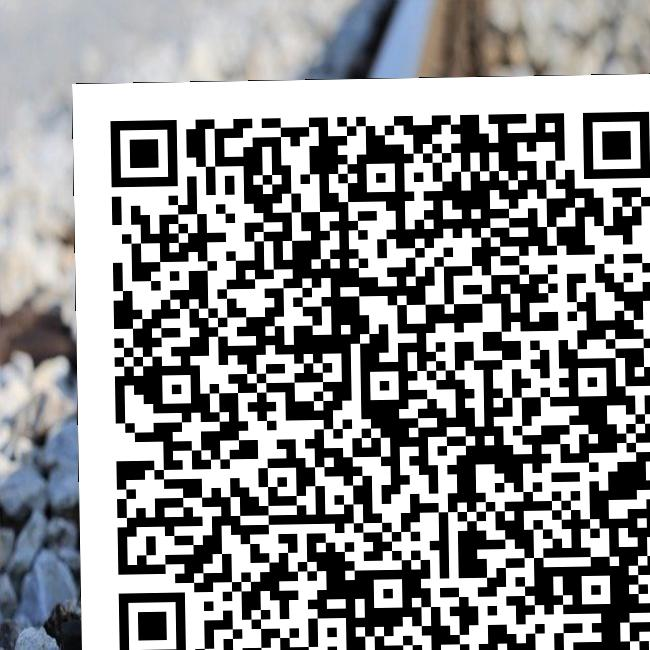qr_code: (72, 72, 649, 650)
